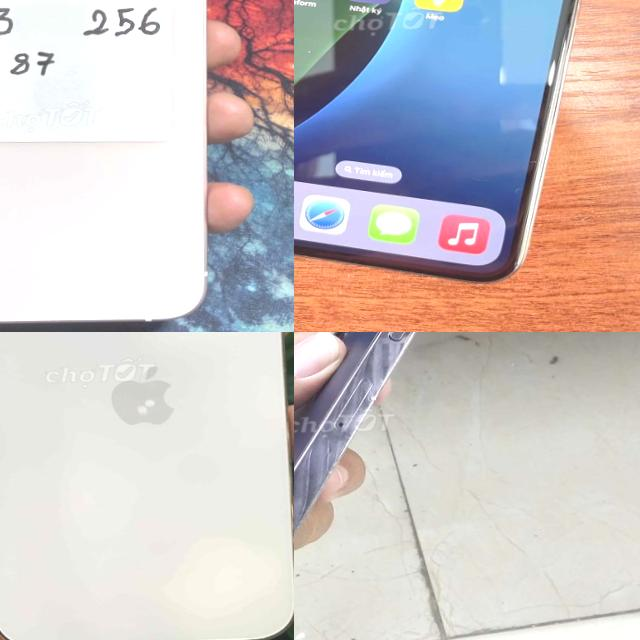gen_12_13: (0, 332, 294, 640), (0, 0, 222, 332)
gen_14: (294, 332, 508, 640)
gen_x_xs: (294, 0, 577, 280)
